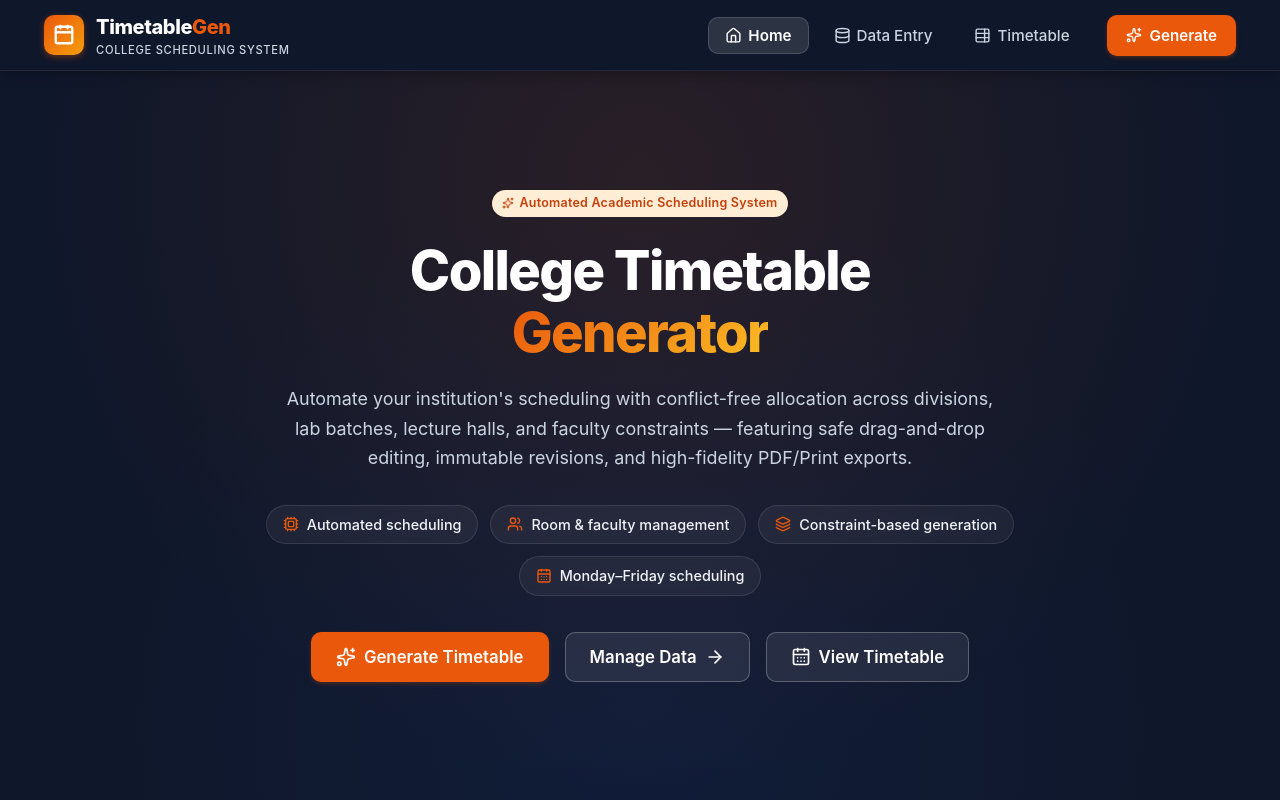
Test: App Phase 2 Foundation & Navigation › 2. Navigates to Data Entry management page and back
The image size is (1280, 800).
Click the button with test id "nav-data-entry": (883, 35) [817,16,949,54]
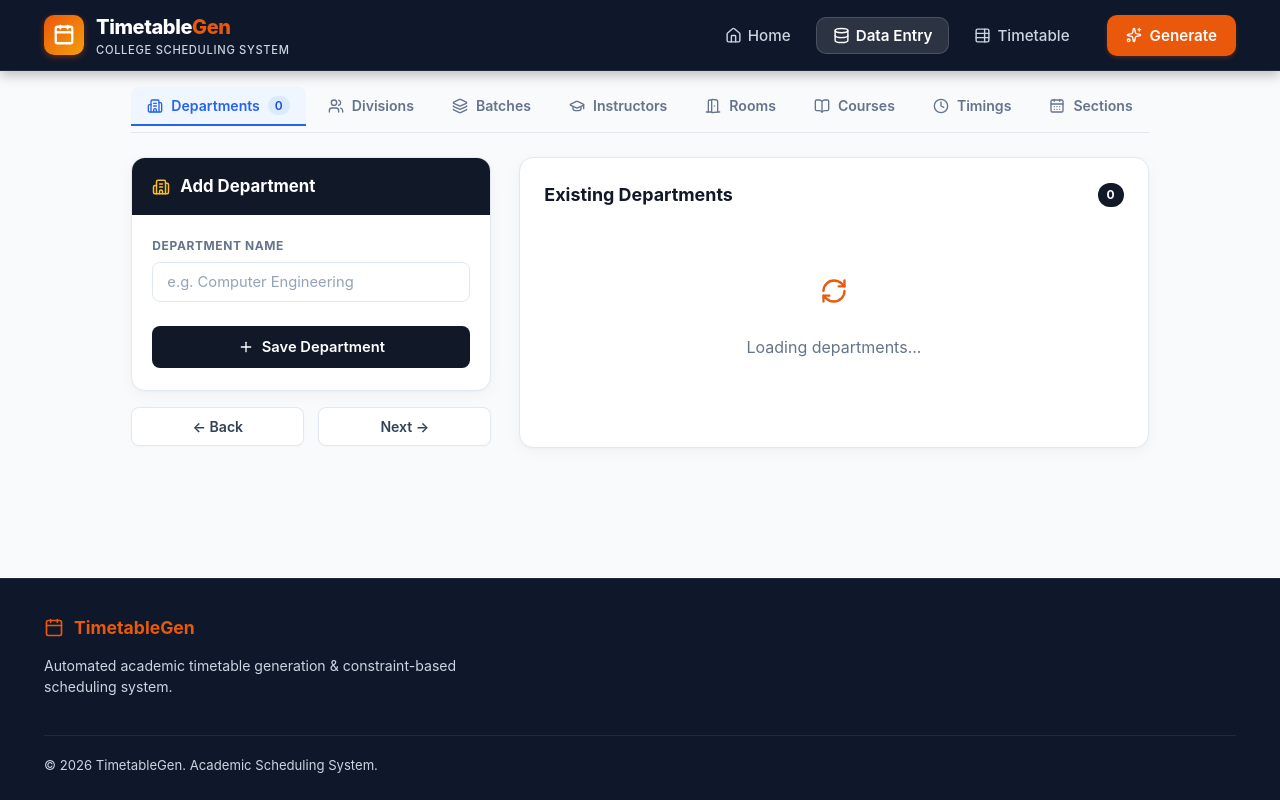
Expected: the tab "Divisions" is shown, [312,87,430,126]
Expected: the heading "Add Department" is shown, [180,176,315,196]
Expected: the tab "Departments 0" is shown, [131,87,306,126]
# Return to home
Click the button with test id "nav-home": (758, 35) [708,16,808,54]
(page scrolled)
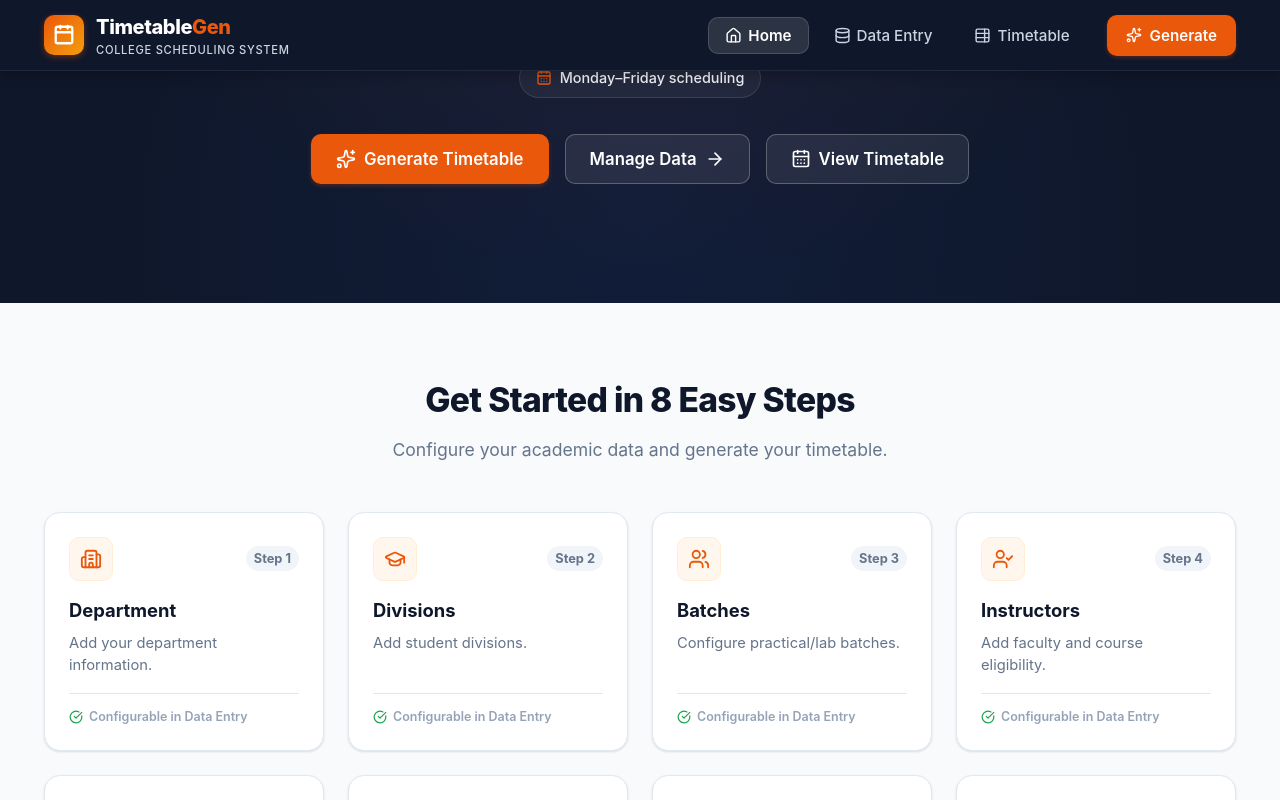
Expected: the heading "Get Started in 8 Easy Steps" is shown, [425,379,855,420]
